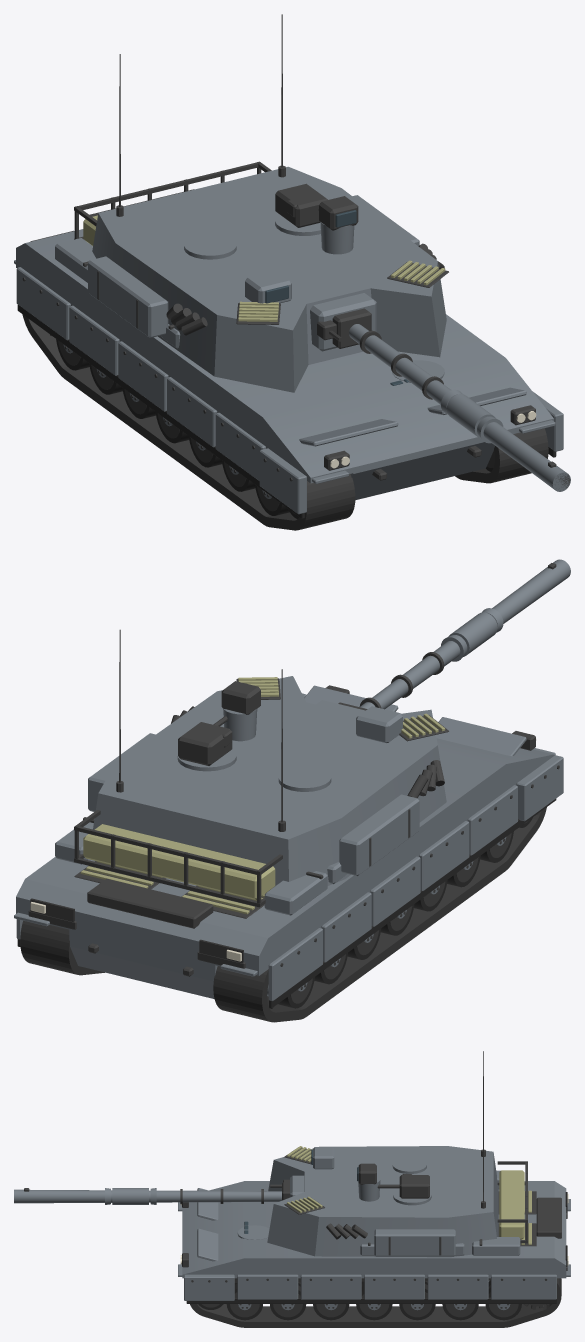
Rendered from tank.glb.
3 renders of one model, top to bottom at view 1: azimuth 30°, elevation 25°; view 2: azimuth 150°, elevation 25°; view 3: azimuth 270°, elevation 25°, orthographic. The views are drawn at different scales.
Visible parts, largest first — view 1: Turret, Hull, Track_L, Tube, Gun, Track_R; view 2: Turret, Hull, Track_L, Tube, Track_R; view 3: Hull, Turret, Track_R, Tube, RoadWheel_R_3, RoadWheel_R_0, RoadWheel_R_4, RoadWheel_R_6, RoadWheel_R_1, Gun, RoadWheel_R_5, RoadWheel_R_2.
Boxes of the visible parts, <box> form: Turret: <box>74,14,448,392</box>; Hull: <box>14,189,563,518</box>; Track_L: <box>22,314,355,530</box>; Tube: <box>349,324,570,491</box>; Gun: <box>310,293,376,351</box>; Track_R: <box>455,428,548,483</box>; Turret: <box>74,629,448,907</box>; Hull: <box>14,685,563,1008</box>; Track_L: <box>213,807,546,1022</box>; Tube: <box>359,559,570,709</box>; Track_R: <box>20,920,104,975</box>; Hull: <box>178,1170,570,1303</box>; Turret: <box>267,1051,527,1257</box>; Track_R: <box>190,1278,561,1327</box>; Tube: <box>14,1188,281,1204</box>; RoadWheel_R_3: <box>356,1281,392,1320</box>; RoadWheel_R_0: <box>226,1283,262,1320</box>; RoadWheel_R_4: <box>399,1281,435,1320</box>; RoadWheel_R_6: <box>485,1280,521,1320</box>; RoadWheel_R_1: <box>270,1282,306,1320</box>; Gun: <box>270,1175,304,1200</box>; RoadWheel_R_5: <box>442,1304,478,1320</box>; RoadWheel_R_2: <box>313,1304,349,1320</box>.
Bounding box in the file's own units: 4.04 × 4.62 × 10.98.
